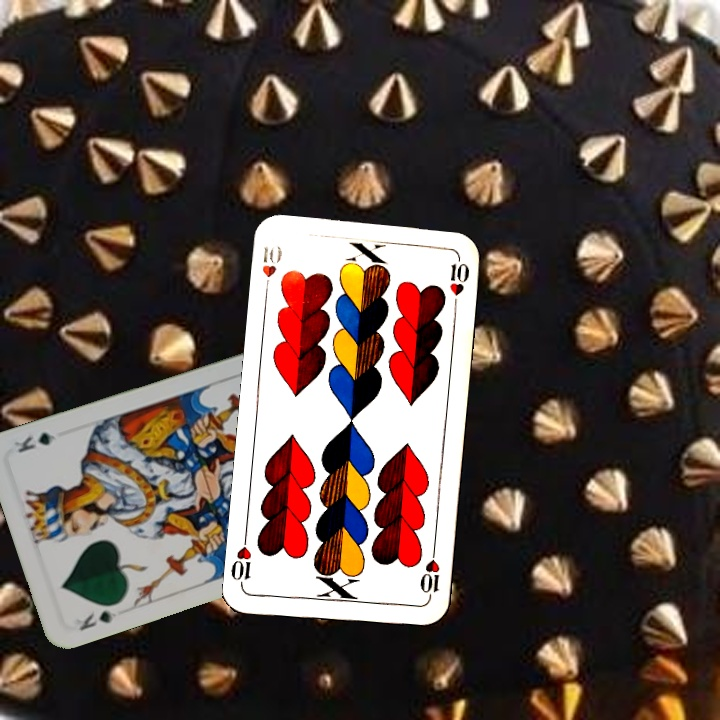GK: (75, 606, 119, 633)
H10: (416, 544, 442, 603), (258, 242, 285, 298)
